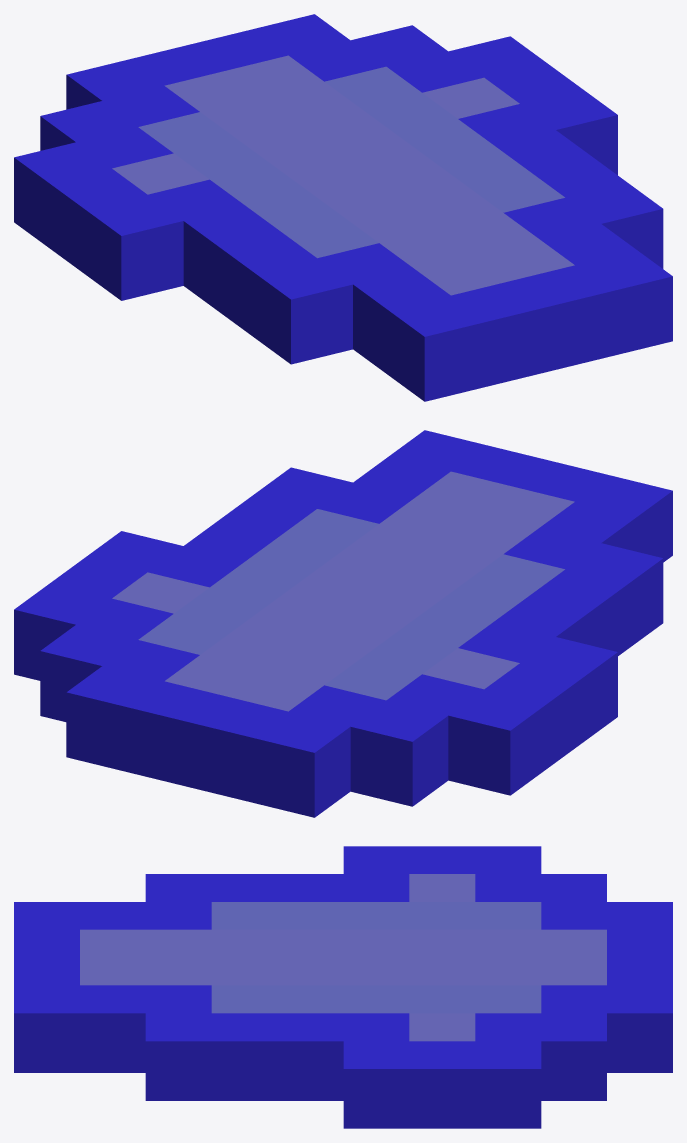
File: bala.obj
The picture shows the model from 3 angles, top to bottom: view 1: azimuth 30°, elevation 25°; view 2: azimuth 150°, elevation 25°; view 3: azimuth 270°, elevation 25°; orthographic projection. The views are drawn at different scales.
Bounding box in the file's own units: 0.8 × 0.1 × 1.
Materials: 1 (1 with a texture image).
